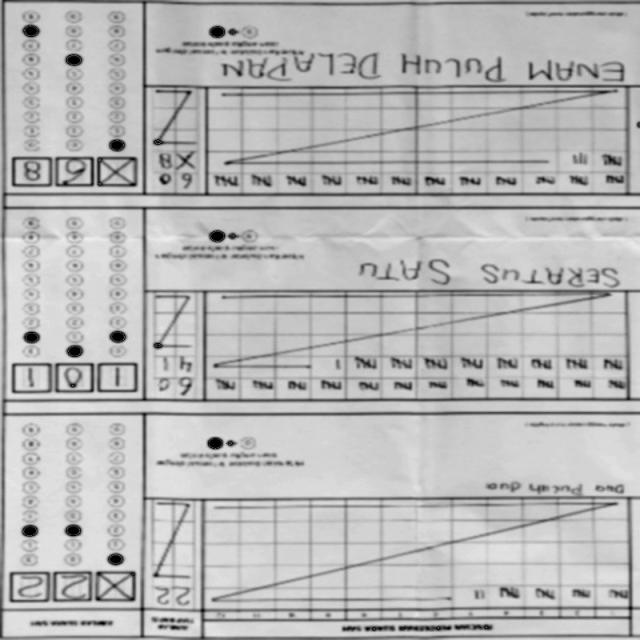Suara: (1, 569, 140, 611), (8, 362, 146, 404), (8, 153, 146, 195)
